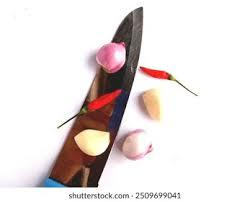Knife: (47, 6, 143, 187)
